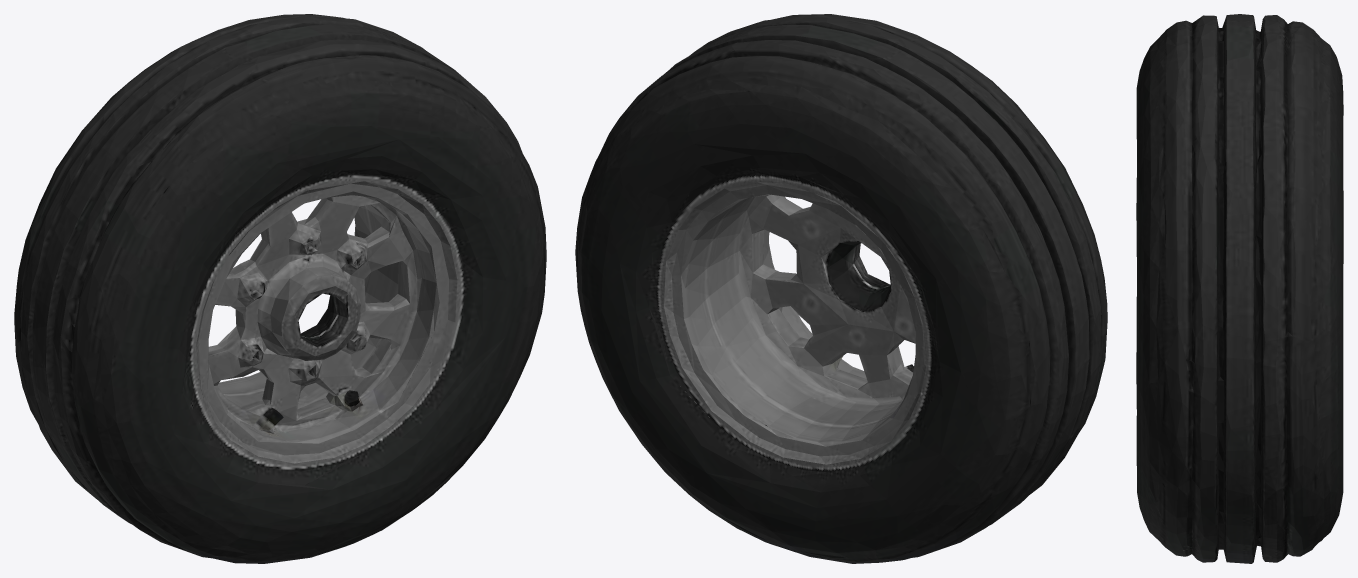
File: tire_ok.glb
3 renders of one model, left to right at view 1: azimuth 30°, elevation 25°; view 2: azimuth 150°, elevation 25°; view 3: azimuth 270°, elevation 25°, orthographic.
Parts seen in each view (by area): view 1: tire_ok; view 2: tire_ok; view 3: tire_ok.
Boxes of the visible parts, x1=… form: tire_ok: x1=14, y1=14, x2=546, y2=563; tire_ok: x1=575, y1=14, x2=1107, y2=563; tire_ok: x1=1136, y1=14, x2=1343, y2=563.
Bounding box in the file's own units: 1.9 × 1.9 × 0.7185.
1 material, 1 textured.
